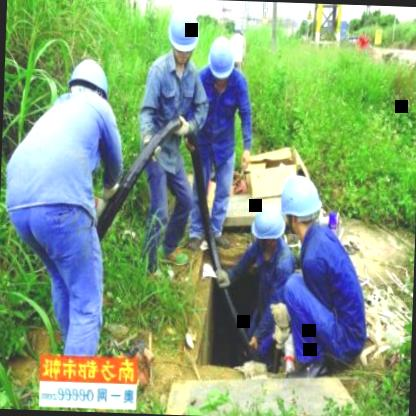helmet: (280, 171, 322, 240), (63, 60, 112, 116), (166, 5, 202, 66), (251, 203, 285, 254), (206, 34, 236, 84)
